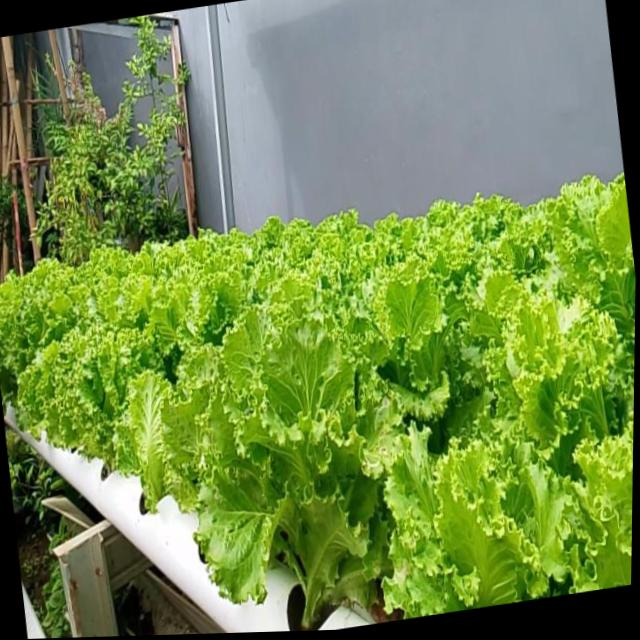Mature: (0, 164, 636, 630), (181, 318, 378, 615), (3, 279, 151, 488)
